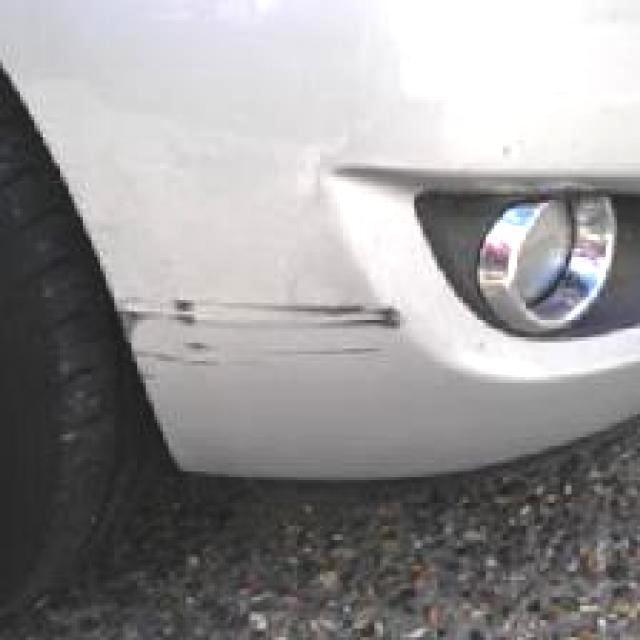minor: (109, 284, 416, 402)
